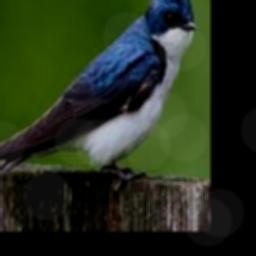Swallow: (0, 0, 197, 183)
